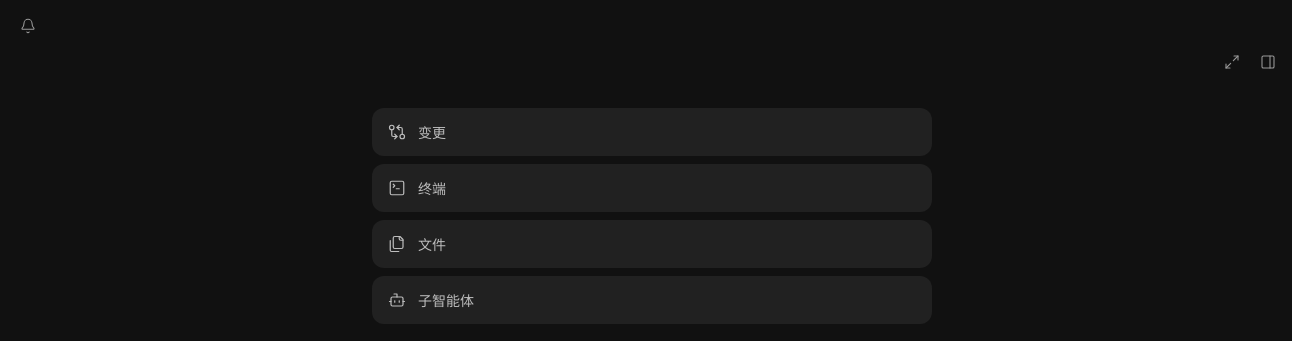
starts empty, returns to the same launcher after last close, and persists the empty state
The image size is (1292, 341).
Expected: the element named "工作区入口" is shown, left=372, top=108, right=932, bottom=324
Click the button "文件": (397, 244) left=372, top=220, right=932, bottom=268
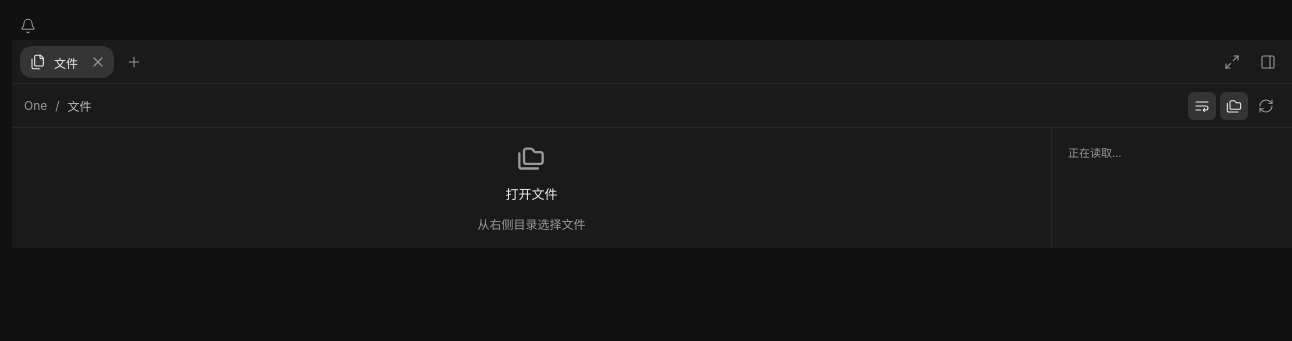
Now the tab "文件" is shown, box left=20, top=46, right=82, bottom=78
Click the button named "关闭文件": (98, 62) left=82, top=48, right=114, bottom=76
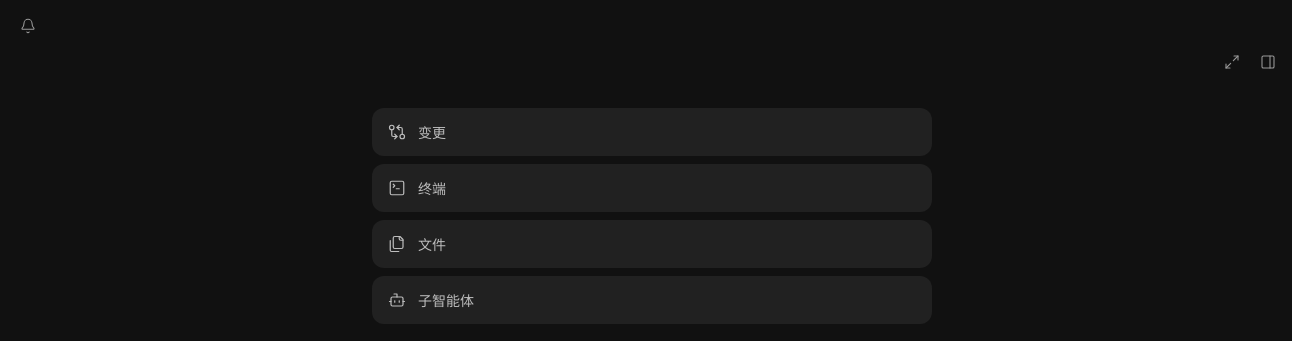
Now the element named "工作区入口" is shown, box left=372, top=108, right=932, bottom=324
